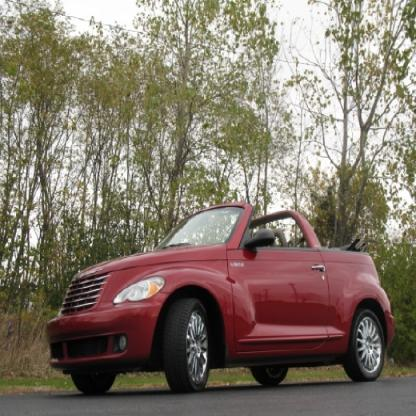Vehicle: (24, 195, 402, 409)
